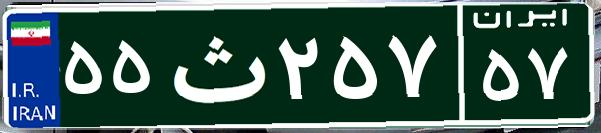2: (273, 28, 330, 110)
5: (330, 28, 385, 110), (57, 26, 110, 107), (475, 38, 525, 113), (110, 28, 158, 105)
7: (385, 28, 445, 110), (525, 38, 570, 115)
ث: (158, 15, 273, 115)
